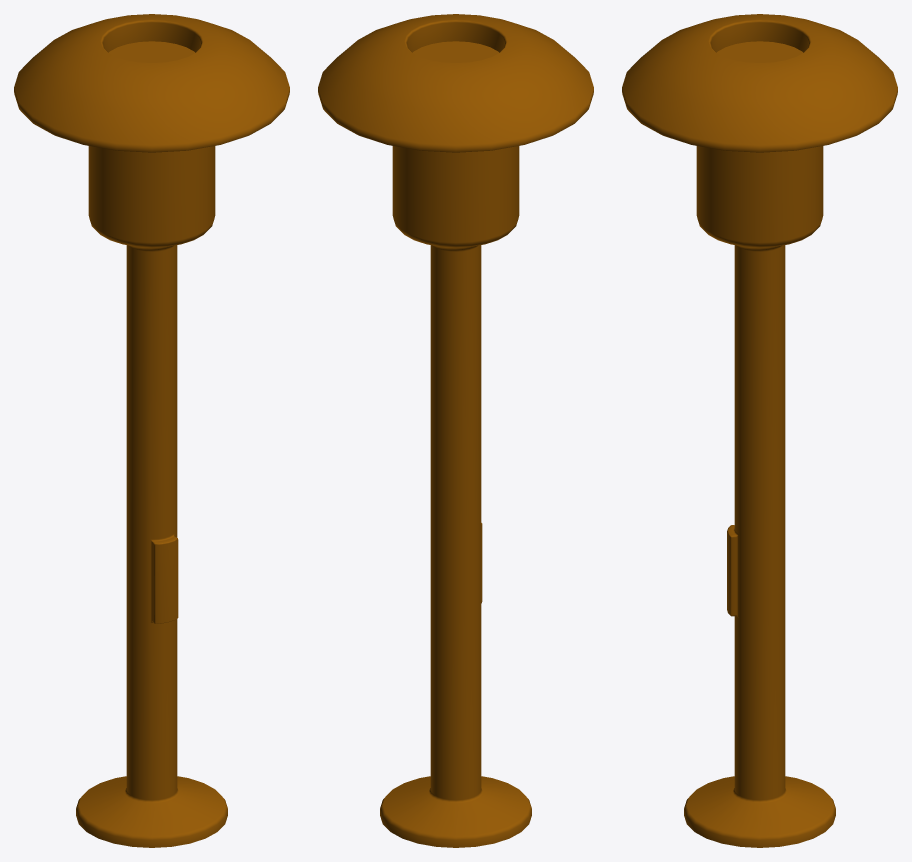
Rendered from Street_Lamp_08.fbx.
3 views of the same model, side by side, from view 1: azimuth 30°, elevation 25°; view 2: azimuth 150°, elevation 25°; view 3: azimuth 270°, elevation 25° (orthographic).
Visible parts, largest first — view 1: Street_Lamp_08; view 2: Street_Lamp_08; view 3: Street_Lamp_08.
Part boxes in pixels (<box>): Street_Lamp_08: <box>14,14,289,847</box>; Street_Lamp_08: <box>318,14,593,847</box>; Street_Lamp_08: <box>622,14,897,847</box>.
Bounding box in the file's own units: 109 × 338 × 109.
